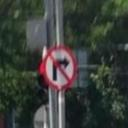NoVirarDireita: (42, 46, 76, 89)
